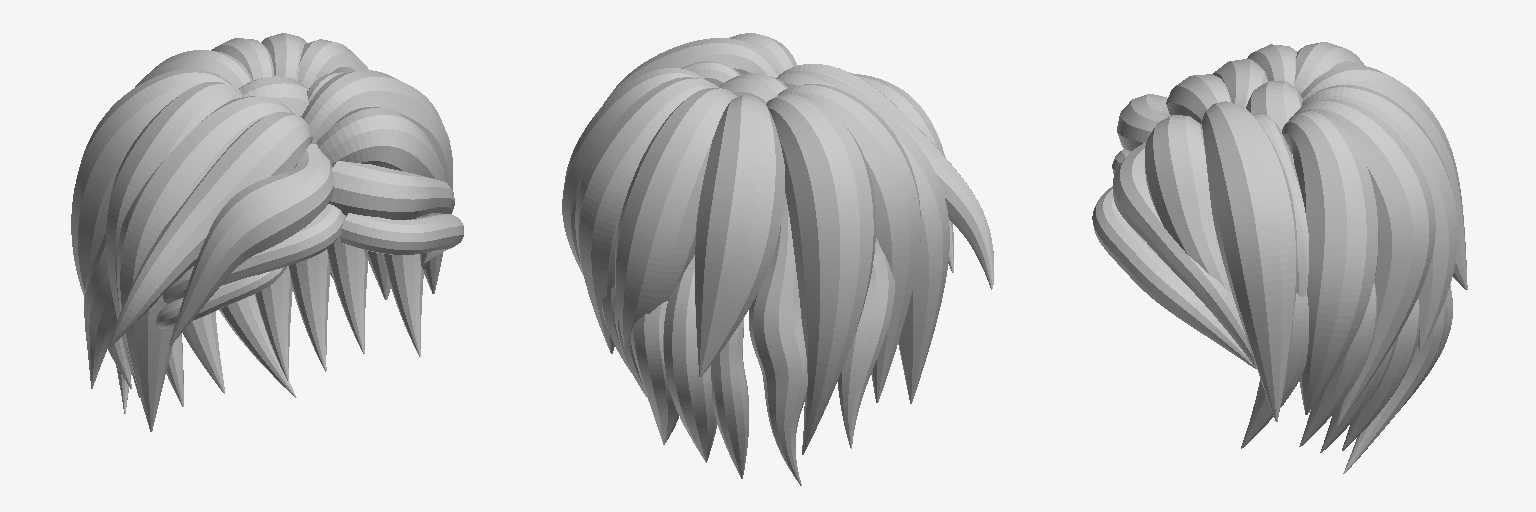
The model's file is hair1.obj.
The picture shows the model from 3 angles: view 1: azimuth 30°, elevation 25°; view 2: azimuth 150°, elevation 25°; view 3: azimuth 270°, elevation 25°; orthographic projection.
Parts seen in each view (by area): view 1: WomanHair2_NurbsPath.047; view 2: WomanHair2_NurbsPath.047; view 3: WomanHair2_NurbsPath.047.
Part boxes in pixels (left/top/right/bottom): WomanHair2_NurbsPath.047: left=71, top=33, right=463, bottom=431; WomanHair2_NurbsPath.047: left=562, top=33, right=993, bottom=485; WomanHair2_NurbsPath.047: left=1092, top=42, right=1467, bottom=473.
Bounding box in the file's own units: 2.64 × 2.48 × 2.3.